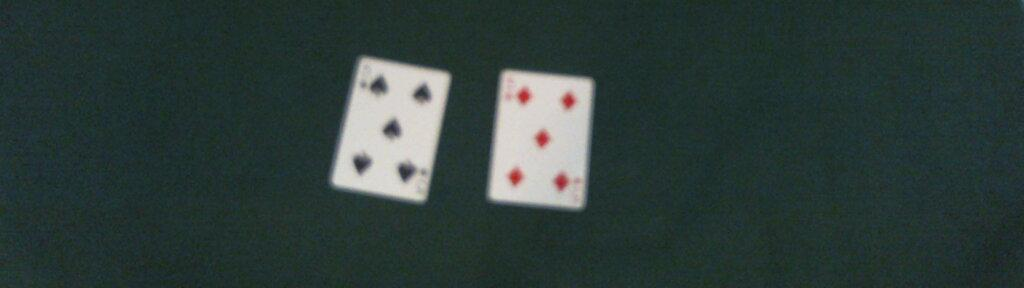five: (327, 53, 453, 202), (482, 67, 596, 209)
